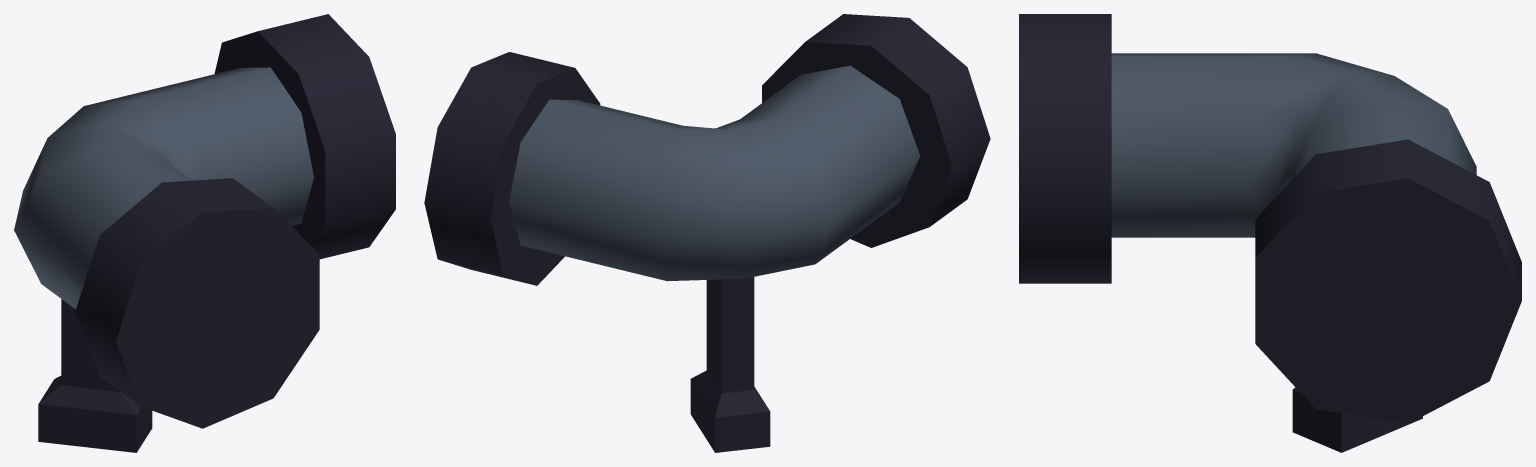
The model's file is Pipe_1_A_3.fbx.
3 views of the same model, side by side, from view 1: azimuth 30°, elevation 25°; view 2: azimuth 150°, elevation 25°; view 3: azimuth 270°, elevation 25° (orthographic). The views are drawn at different scales.
Visible parts, largest first — view 1: Pipe_1_A_3; view 2: Pipe_1_A_3; view 3: Pipe_1_A_3.
Part boxes in pixels (x1,y1,x2,y2): Pipe_1_A_3: (14, 14, 395, 452); Pipe_1_A_3: (424, 14, 990, 452); Pipe_1_A_3: (1019, 14, 1521, 452).
Bounding box in the file's own units: 55.93 × 47.63 × 55.93.
